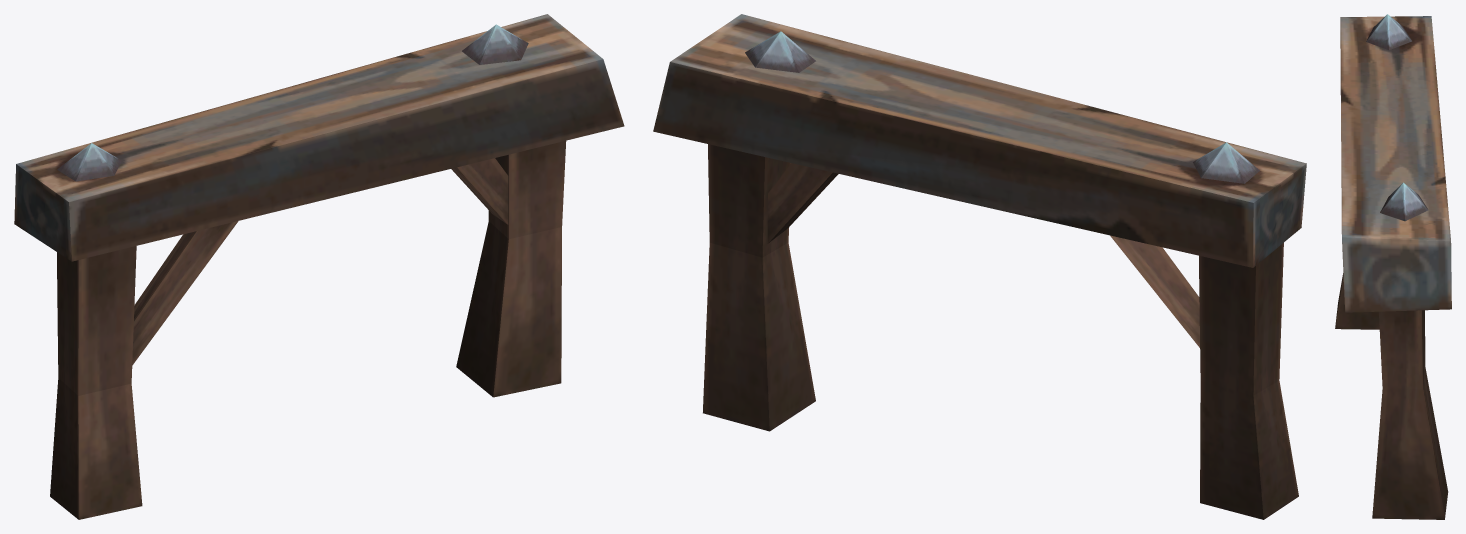
Rendered from mine_railing_small_01.fbx.
3 views of the same model, side by side, from view 1: azimuth 30°, elevation 25°; view 2: azimuth 150°, elevation 25°; view 3: azimuth 270°, elevation 25° (orthographic). The views are drawn at different scales.
Parts seen in each view (by area): view 1: obj0.068; view 2: obj0.068; view 3: obj0.068.
Part boxes in pixels (x1,y1,x2,y2): obj0.068: (14,14,624,519); obj0.068: (653,14,1306,519); obj0.068: (1335,14,1451,519).
Size of the model in its own units: 2.41 by 1.47 by 0.4926.
